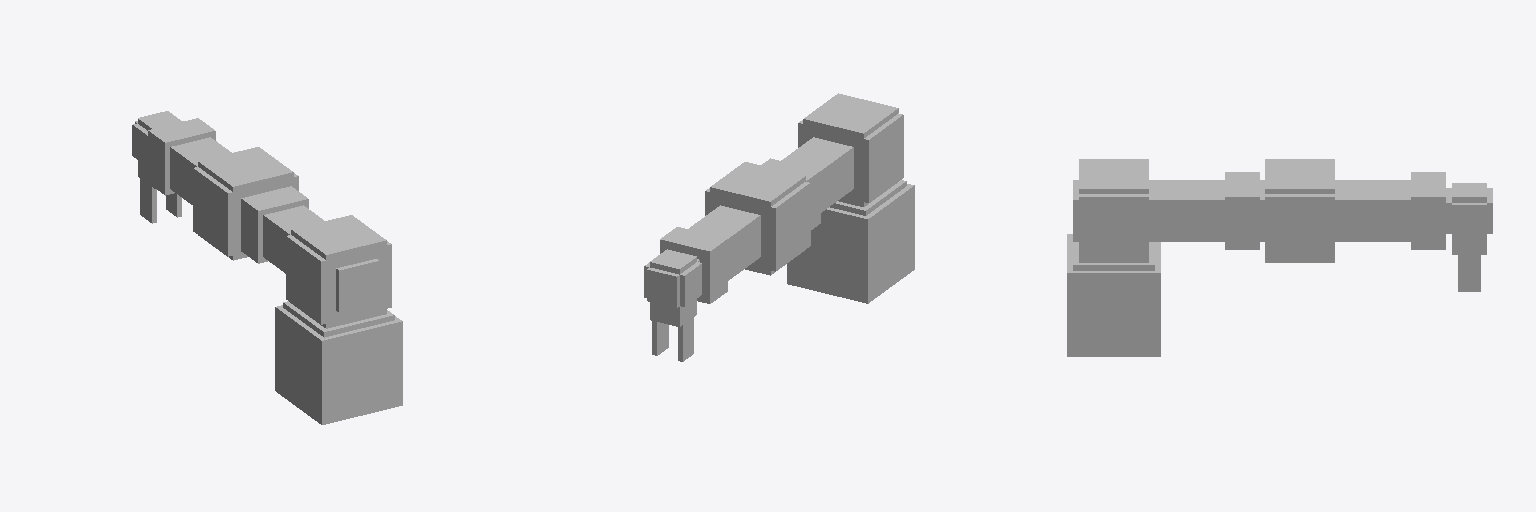
File: arm_basic.obj
3 renders of one model, left to right at view 1: azimuth 30°, elevation 25°; view 2: azimuth 150°, elevation 25°; view 3: azimuth 270°, elevation 25°, orthographic.
Parts seen in each view (by area): view 1: arm1, Base, arm2, hand, claw; view 2: arm2, arm1, Base, hand, claw; view 3: arm1, arm2, Base, hand, claw.
Part boxes in pixels (x1,y1,x2,y2): arm1: (241, 186, 391, 328); Base: (275, 301, 402, 424); arm2: (148, 118, 298, 260); hand: (132, 111, 182, 188); claw: (140, 168, 181, 223); arm2: (660, 162, 810, 303); arm1: (761, 93, 903, 229); Base: (787, 180, 914, 303); hand: (644, 249, 701, 326); claw: (652, 307, 693, 361); arm1: (1073, 159, 1259, 262); arm2: (1260, 159, 1445, 262); Base: (1067, 234, 1160, 356); hand: (1446, 183, 1492, 254); claw: (1458, 245, 1480, 291).
Bounding box in the file's own units: 1 × 1.94 × 4.56.